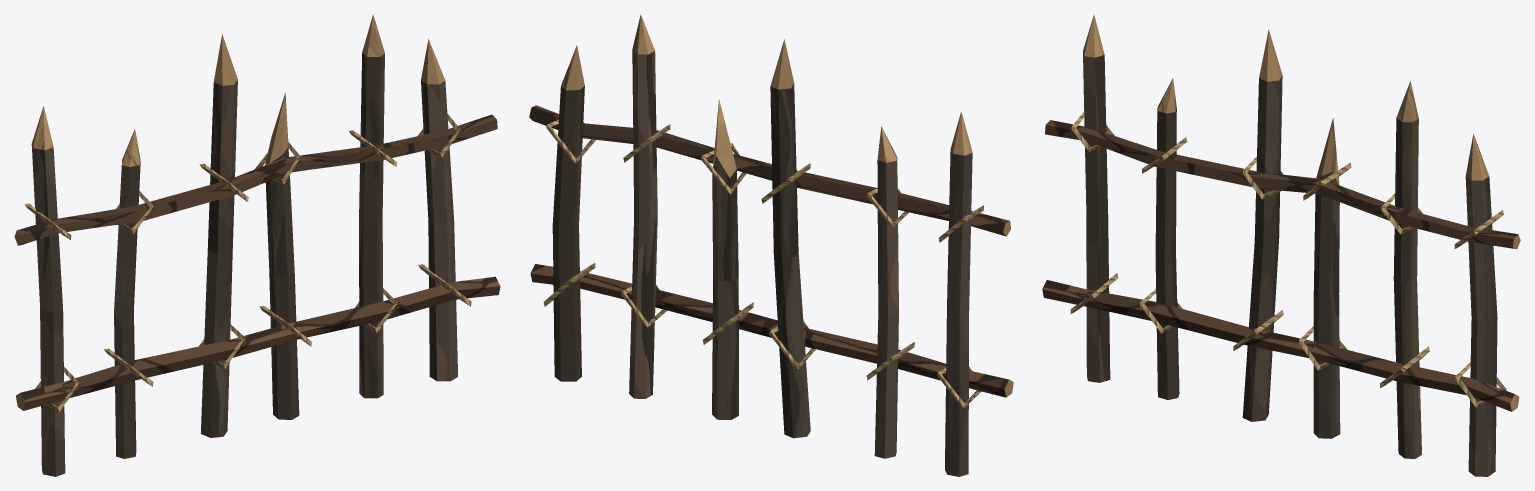
Rendered from SM_StakeFence.fbx.
The picture shows the model from 3 angles, left to right: view 1: azimuth 30°, elevation 25°; view 2: azimuth 150°, elevation 25°; view 3: azimuth 330°, elevation 25°; orthographic projection.
Parts seen in each view (by area): view 1: SM_StakeFence; view 2: SM_StakeFence; view 3: SM_StakeFence.
Boxes of the visible parts, bbox=[...] form: SM_StakeFence: bbox=[14, 14, 500, 476]; SM_StakeFence: bbox=[529, 14, 1013, 476]; SM_StakeFence: bbox=[1042, 14, 1520, 476].
Bounding box in the file's own units: 2 × 1.59 × 0.2389.
